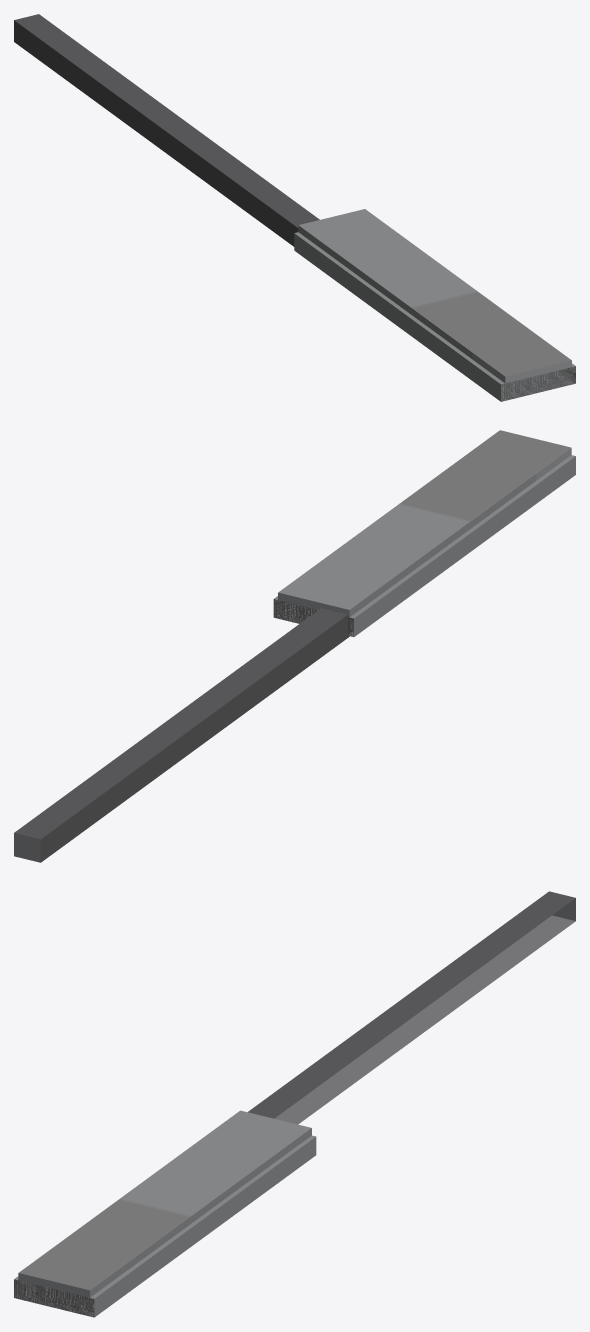
The picture shows the model from 3 angles, top to bottom: view 1: azimuth 30°, elevation 25°; view 2: azimuth 150°, elevation 25°; view 3: azimuth 330°, elevation 25°; orthographic projection. The views are drawn at different scales.
Bounding box in the file's own units: 0.0702 × 0.0238 × 0.7995.
